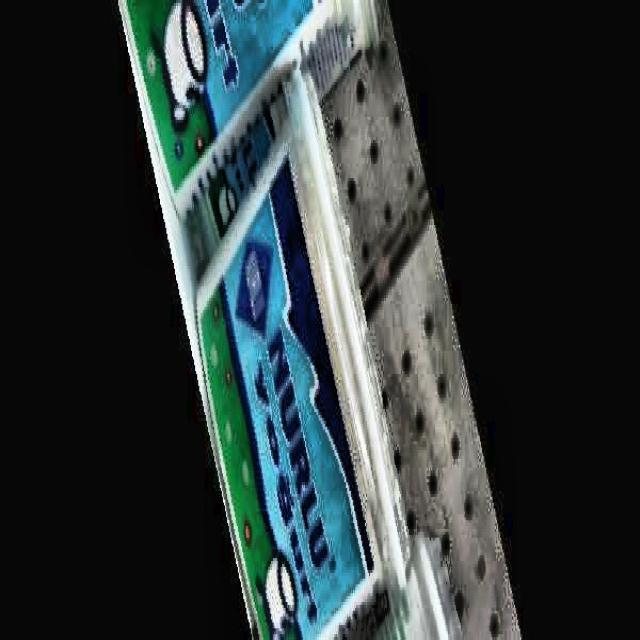plastic: (198, 72, 410, 635)
